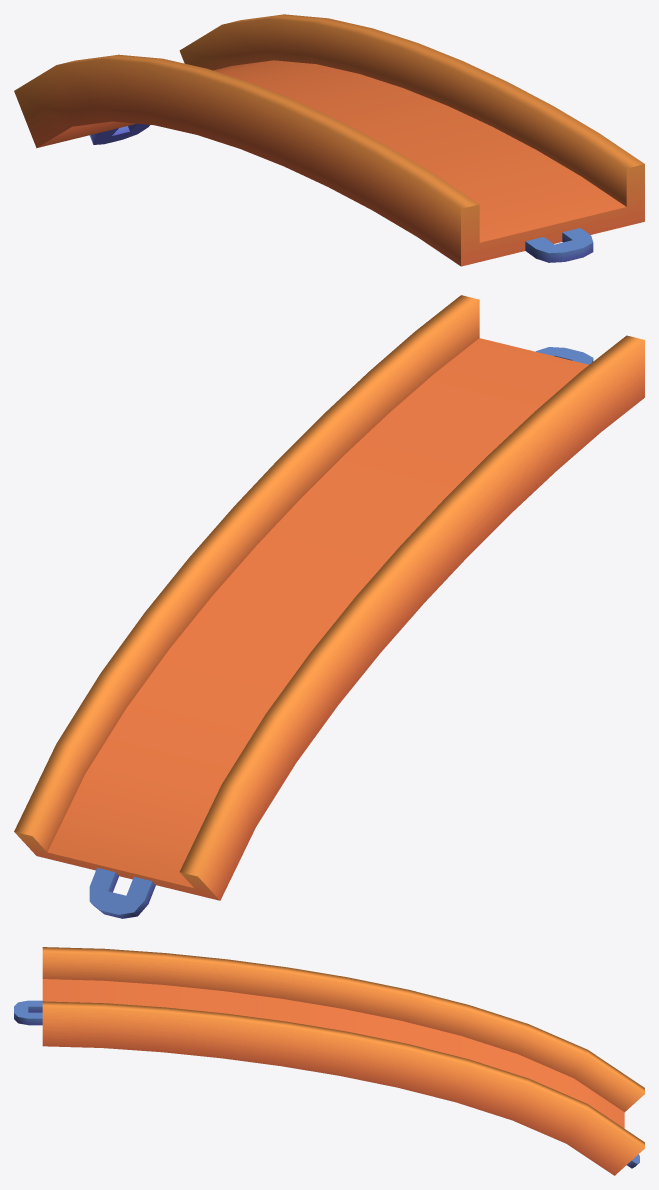
File: track-narrow-straight-hill-end.glb
3 renders of one model, top to bottom at view 1: azimuth 30°, elevation 25°; view 2: azimuth 150°, elevation 25°; view 3: azimuth 270°, elevation 25°, orthographic. The views are drawn at different scales.
Parts seen in each view (by area): view 1: track-narrow-straight-hill-end; view 2: track-narrow-straight-hill-end; view 3: track-narrow-straight-hill-end.
Boxes of the visible parts, <box> form: track-narrow-straight-hill-end: <box>14,14,644,266</box>; track-narrow-straight-hill-end: <box>14,295,644,918</box>; track-narrow-straight-hill-end: <box>14,947,644,1175</box>.
Size of the model in its own units: 3 by 4.32 by 13.24.
Materials: 1 (1 with a texture image).
